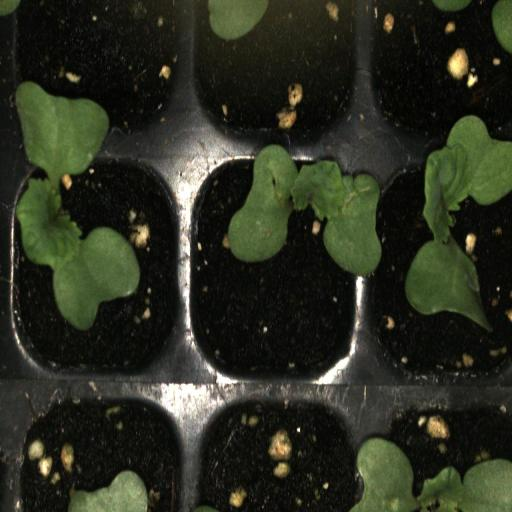noseedling: (9, 0, 186, 153)
seedling: (4, 152, 186, 390), (185, 152, 366, 384), (364, 150, 512, 396)
